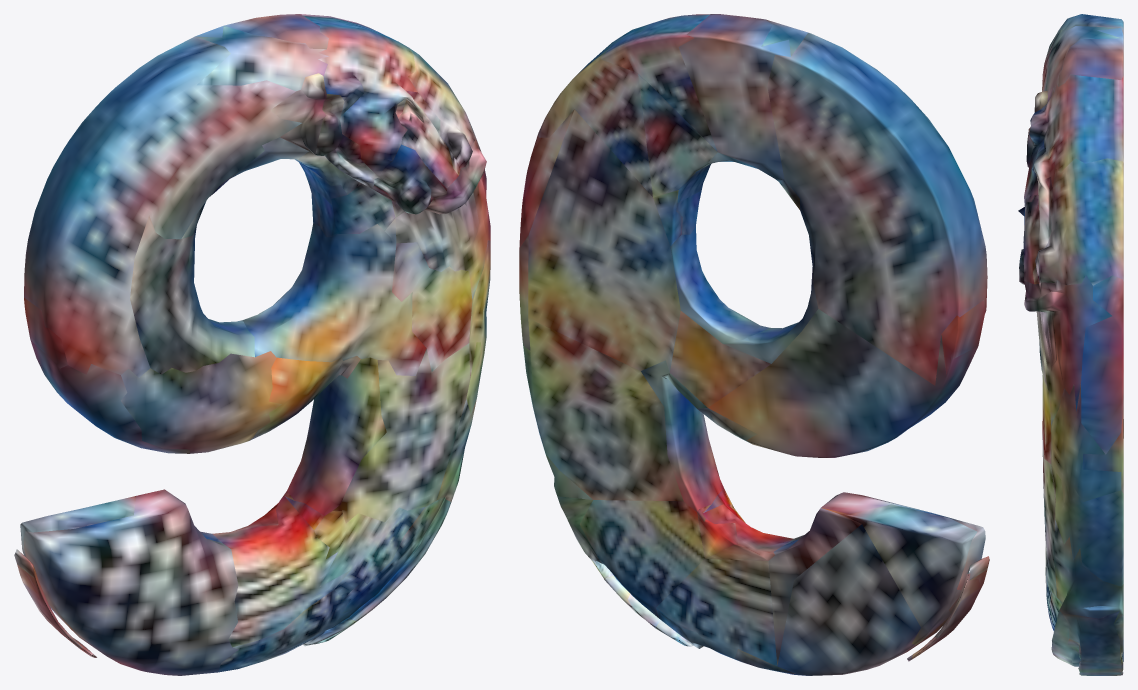
3 renders of one model, left to right at view 1: azimuth 30°, elevation 25°; view 2: azimuth 150°, elevation 25°; view 3: azimuth 270°, elevation 25°, orthographic. The views are drawn at different scales.
Bounding box in the file's own units: 0.4041 × 0.5334 × 0.0845.
1 material, 1 textured.
